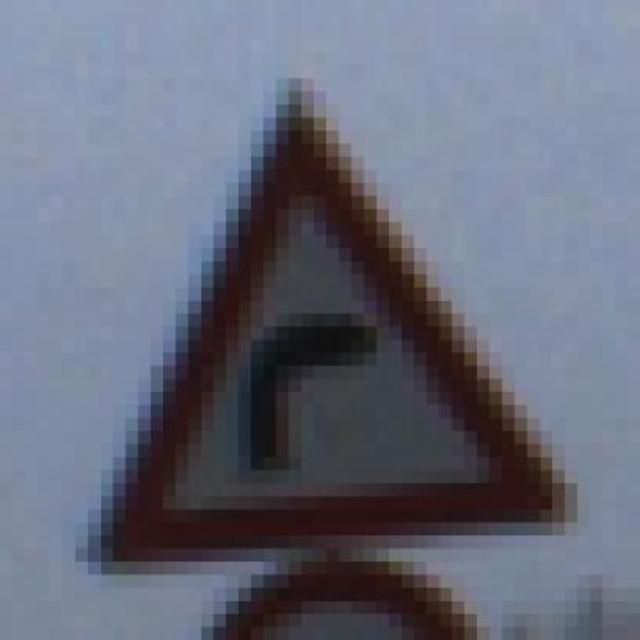Dangerous Rright Curve Ahead: (75, 78, 578, 574)
